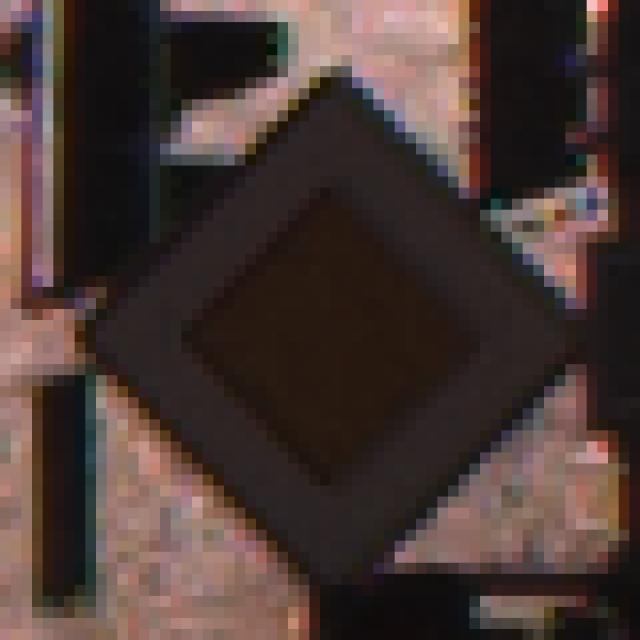Main Road: (54, 67, 577, 586)
